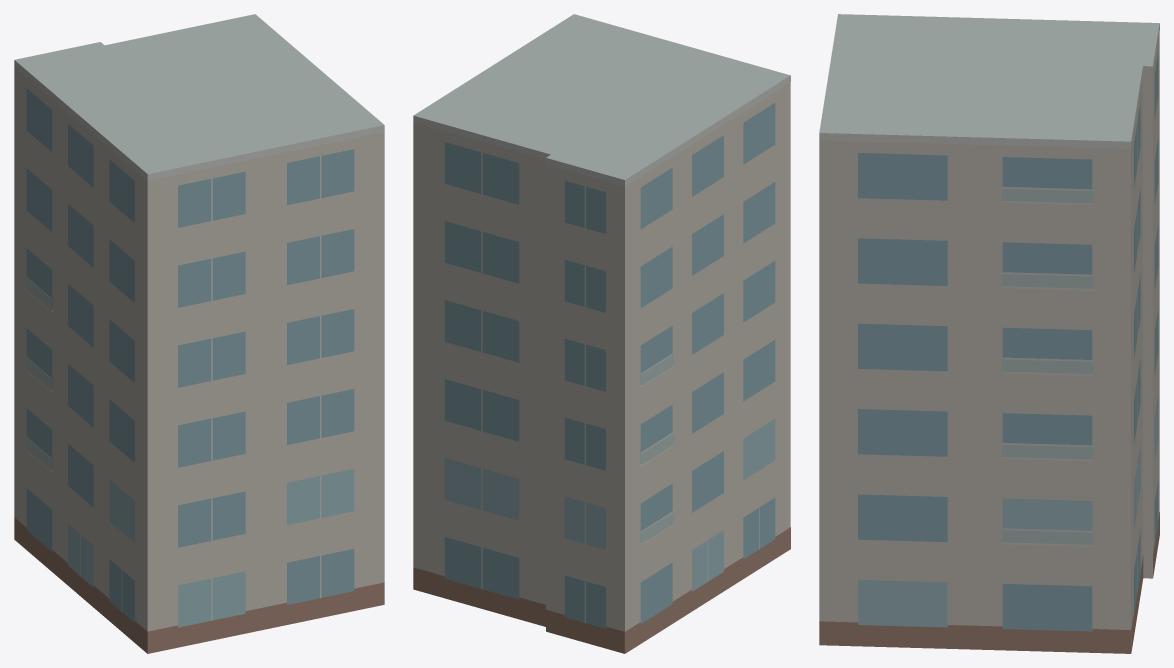
The model's file is survey-upis-32660395.glb.
The picture shows the model from 3 angles, left to right: view 1: azimuth 30°, elevation 25°; view 2: azimuth 150°, elevation 25°; view 3: azimuth 270°, elevation 25°; orthographic projection. The views are drawn at different scales.
Visible parts, largest first — view 1: survey-upis-32660395.tmp; view 2: survey-upis-32660395.tmp; view 3: survey-upis-32660395.tmp.
Boxes of the visible parts, left/top/right/bottom form: survey-upis-32660395.tmp: left=14, top=14, right=384, bottom=653; survey-upis-32660395.tmp: left=413, top=14, right=790, bottom=653; survey-upis-32660395.tmp: left=819, top=14, right=1159, bottom=653.
Bounding box in the file's own units: 9.25 × 17.3 × 10.43.
